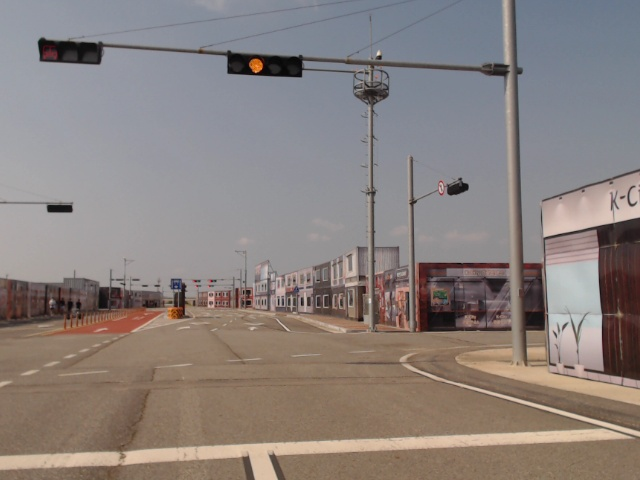orange_4: (226, 48, 306, 79)
